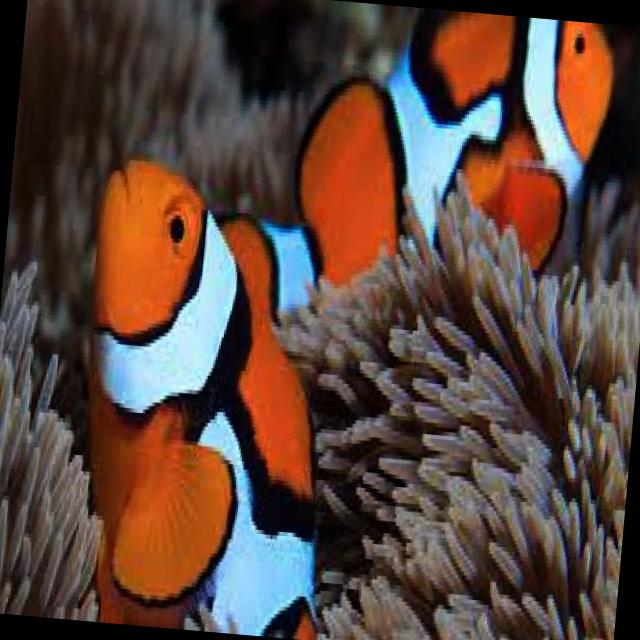ClownFish: (53, 153, 354, 640), (287, 0, 615, 306)
